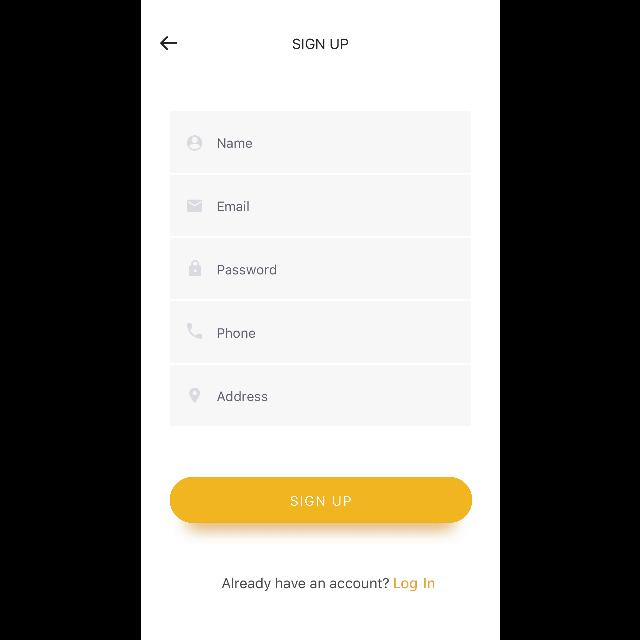icon: (160, 36, 177, 50), (186, 136, 202, 150), (188, 260, 200, 276), (186, 200, 202, 212), (188, 388, 200, 402)
image: (186, 324, 202, 338)
input: (169, 174, 471, 236), (169, 238, 471, 300), (169, 364, 471, 426), (169, 111, 471, 172), (169, 302, 471, 362)
text: (222, 577, 434, 591), (292, 39, 348, 50), (217, 265, 276, 275), (217, 391, 267, 401), (217, 328, 255, 338), (217, 138, 251, 148), (218, 201, 248, 211)
textbutton: (170, 477, 472, 523)
